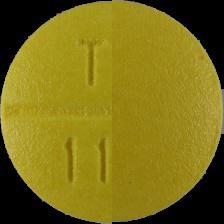0440-8190: (0, 0, 224, 224)
